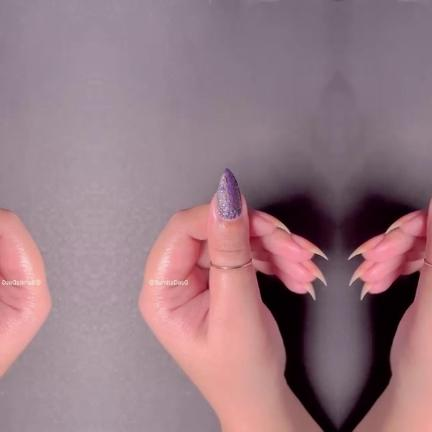Nail: (216, 167, 241, 220), (291, 234, 327, 260), (347, 234, 383, 260), (253, 210, 289, 233), (385, 210, 421, 233), (301, 260, 326, 285), (348, 260, 373, 285), (302, 282, 315, 300), (359, 282, 372, 300)
